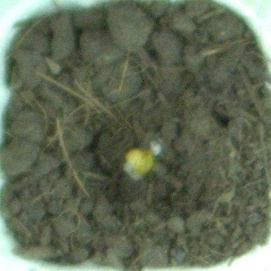chilli seed: (124, 145, 153, 177)
